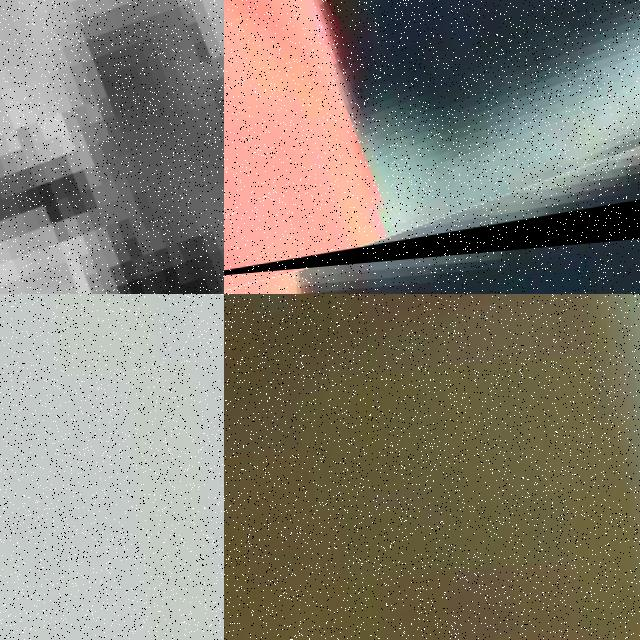0: (0, 0, 224, 294)
drone: (224, 0, 640, 284)
